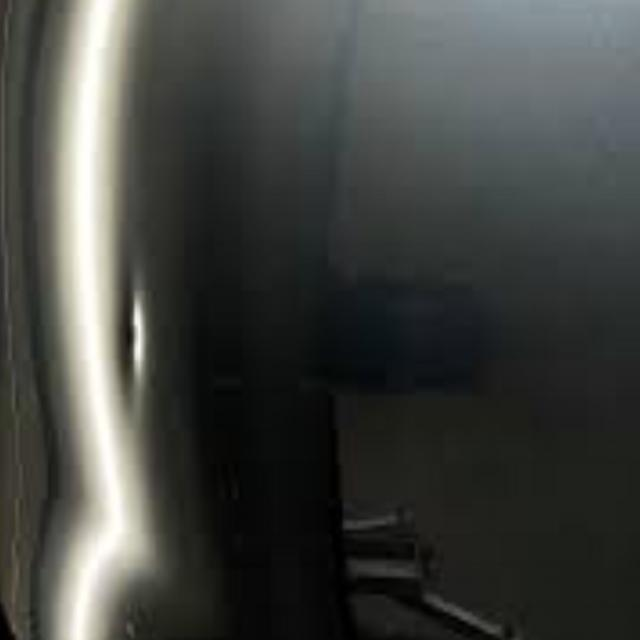dents: (96, 238, 170, 465)
